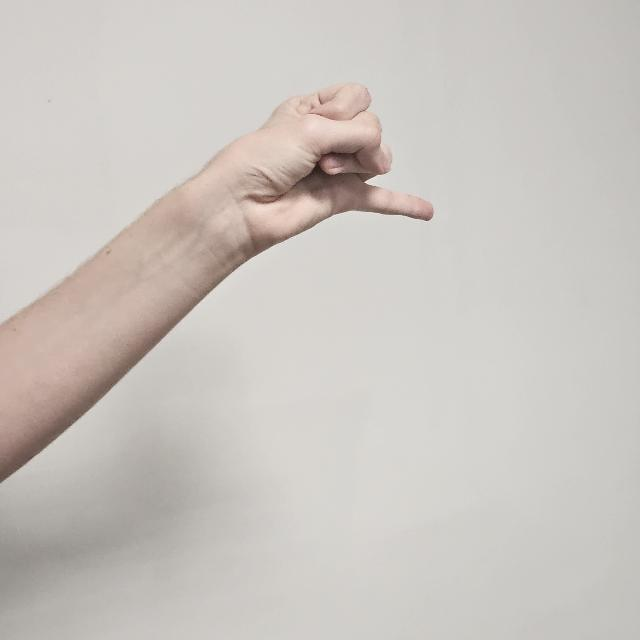Esquerda: (182, 57, 442, 275)
